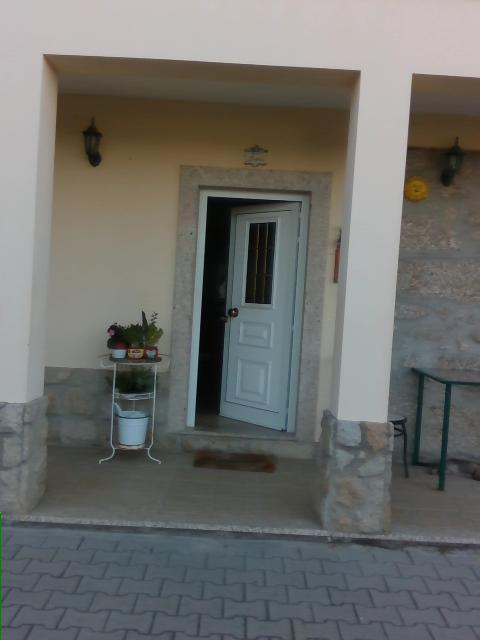semi_door: (184, 186, 310, 434)
